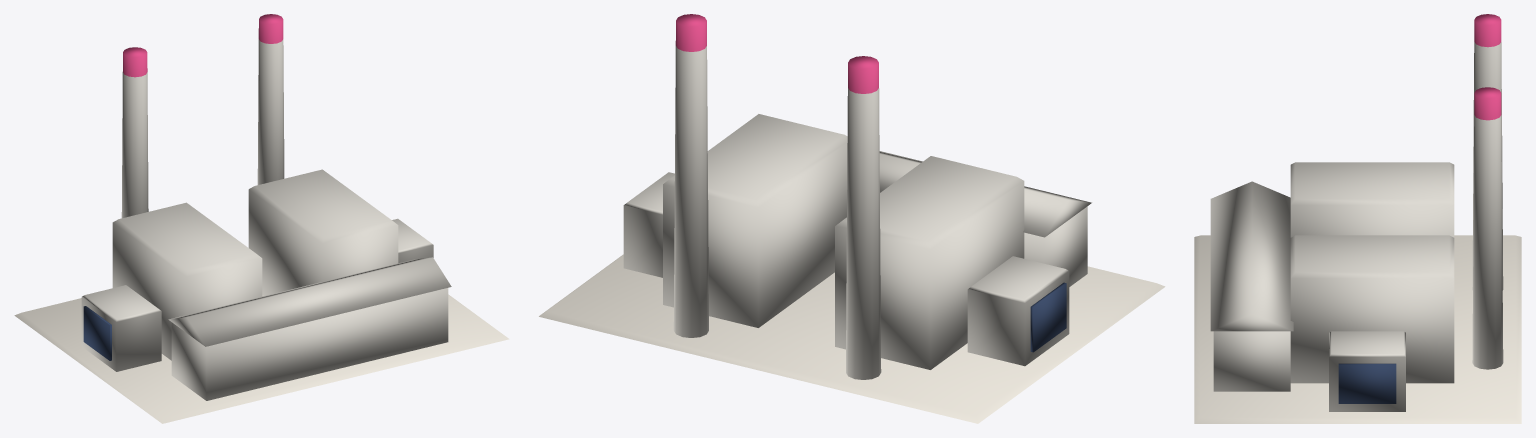
Rendered from termica-gas.glb.
3 views of the same model, side by side, from view 1: azimuth 30°, elevation 25°; view 2: azimuth 150°, elevation 25°; view 3: azimuth 270°, elevation 25° (orthographic). The views are drawn at different scales.
Parts seen in each view (by area): view 1: termica-gas; view 2: termica-gas; view 3: termica-gas.
Part boxes in pixels (left/top/right/bottom): termica-gas: left=14, top=14, right=509, bottom=423; termica-gas: left=539, top=14, right=1165, bottom=423; termica-gas: left=1194, top=14, right=1521, bottom=423.
Bounding box in the file's own units: 92 × 62.9 × 68.
